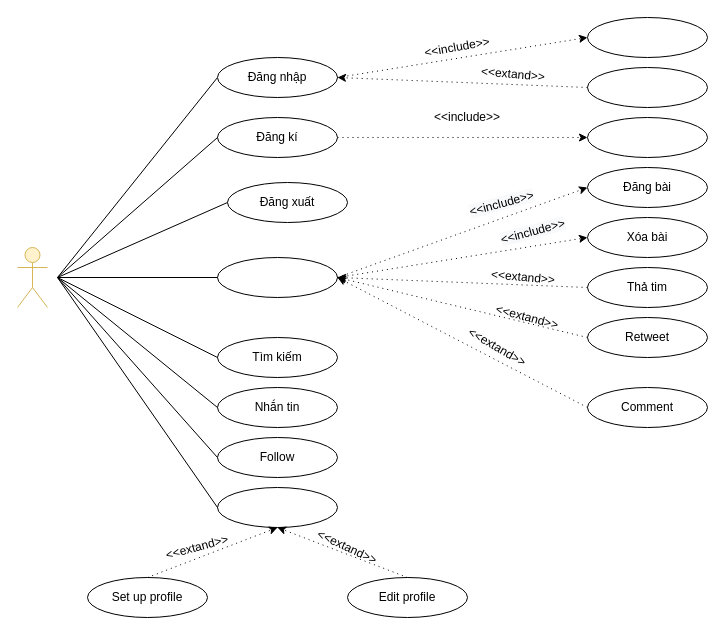
The diagram is 725 pixels wide and 635 high, and some of its shapes have lost their labels. The shapes that lost their labels are listed below. From the top down, each one's centre as x and y in pixels, then its label:
At [647,37]: "Kiểm tra tài khoản".
At [647,87]: "Lỗi đăng nhập".
At [647,137]: "Nhập thông tin cá nhân".
At [32,277]: "Actor".
At [277,277]: "Bài post".
At [277,507]: "Profile".
